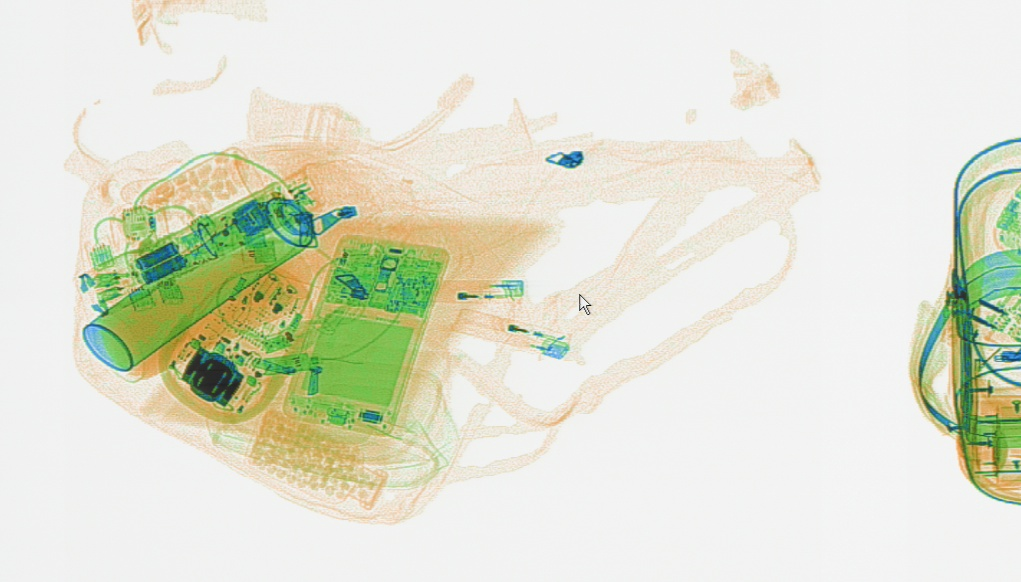lighter: (448, 305, 570, 361), (412, 275, 526, 307)
pressure: (80, 193, 318, 373)
